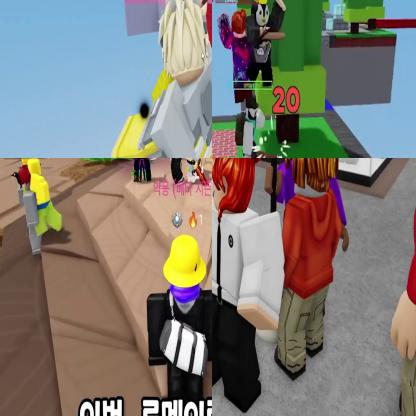Roblox-Avatar: (213, 159, 286, 414), (112, 1, 212, 158), (275, 159, 343, 383), (147, 235, 212, 398), (386, 159, 416, 416), (246, 1, 287, 88)
